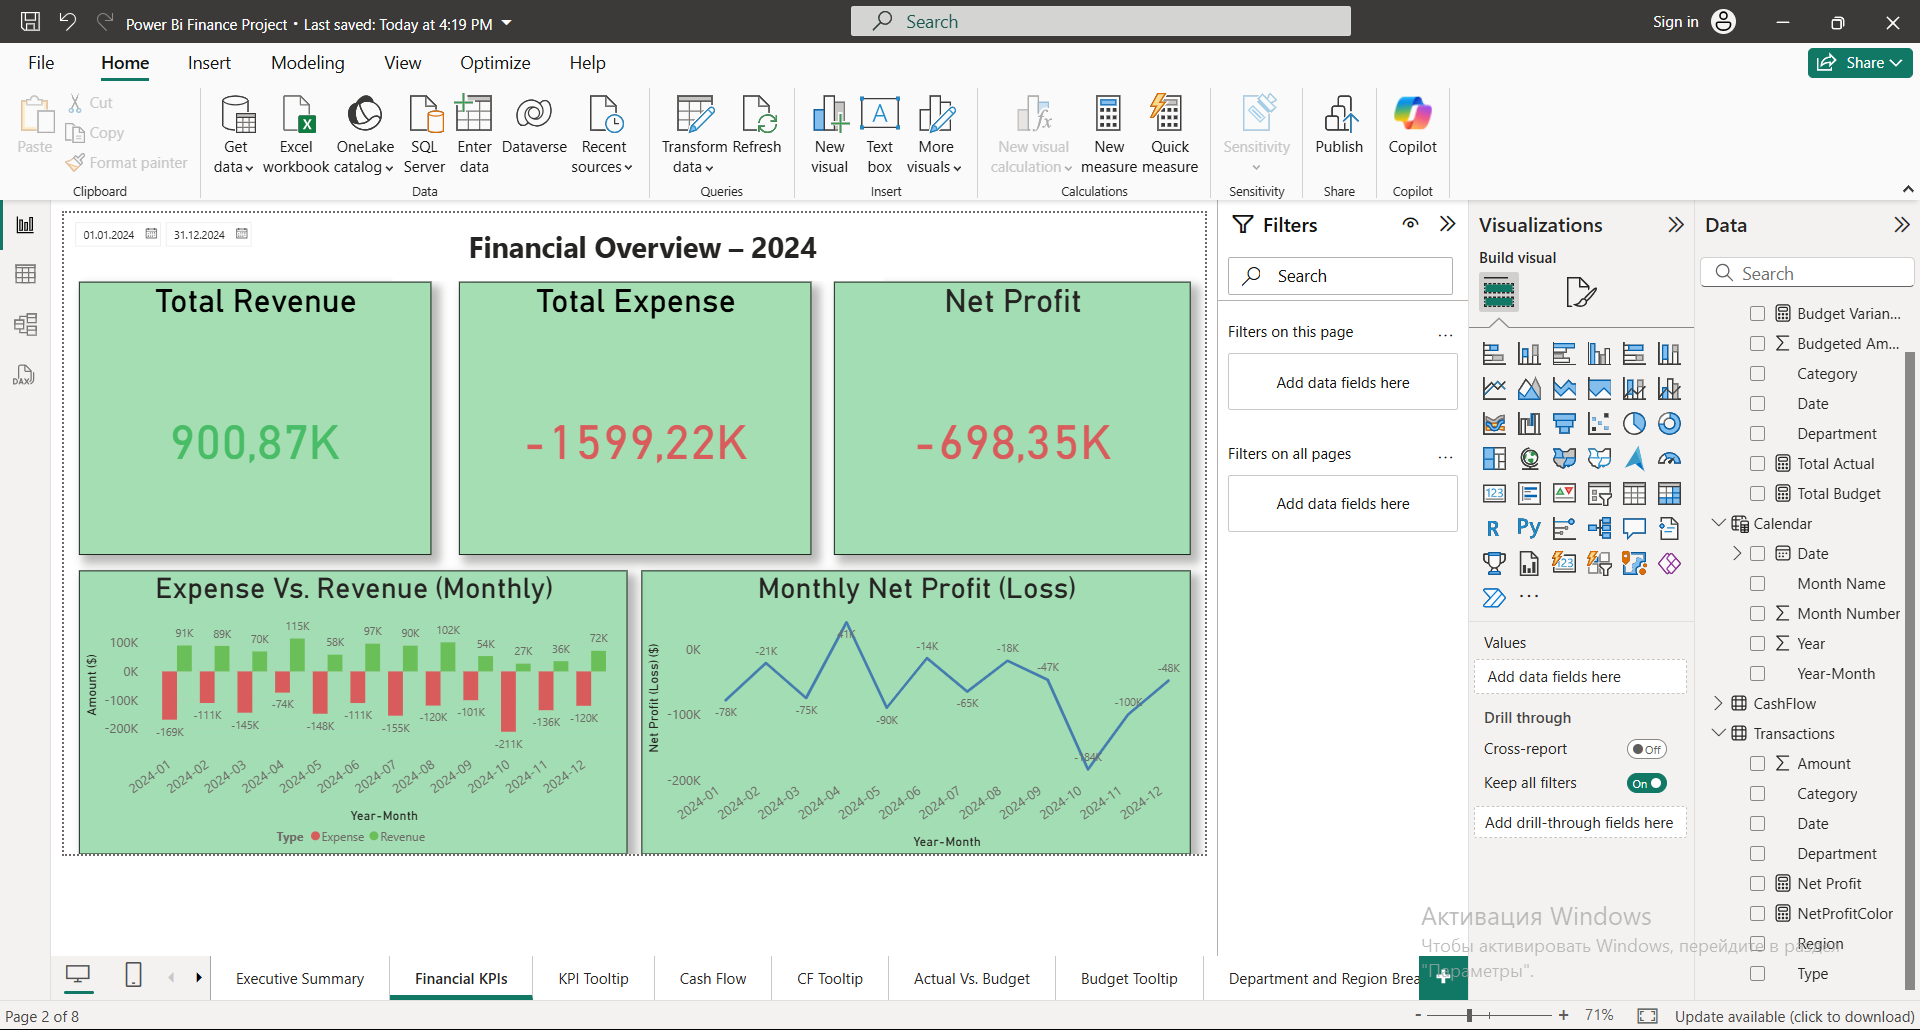

Layout of this report page (visuals, bound fields, positions):
{"tool":"powerbi","page":{"name":"Monthly Financial KPIs","canvas":[1280,720],"ordinal":1},"visuals":[{"type":"slicer","fields":{"Values":["Calendar.Date"]},"box":[0,0,235.9,79.7],"z":0},{"type":"card","title":"Total Revenue","fields":{"Values":["Sum(Transactions.Amount)"]},"box":[17.2,76.6,395.3,298.4],"z":1000},{"type":"card","title":"Total Expense","fields":{"Values":["Sum(Transactions.Amount)"]},"box":[443.8,76.6,395.3,298.4],"z":2000},{"type":"card","title":"Net Profit","fields":{"Values":["Transactions.Net Profit"]},"box":[864.1,76.6,400,298.4],"z":3000},{"type":"lineChart","title":" Revenue Trend","fields":{"Category":["Calendar.Year-Month"],"Y":["Sum(Transactions.Amount)"]},"box":[17.2,401.6,395.3,306.2],"z":4000},{"type":"lineChart","title":" Expense Trend","fields":{"Category":["Calendar.Year-Month"],"Y":["Sum(Transactions.Amount)"]},"box":[439.8,401.6,396.9,306.2],"z":5000},{"type":"lineChart","title":" Net Profit Trend","fields":{"Category":["Calendar.Year-Month"],"Y":["Transactions.Net Profit"]},"box":[864.1,401.6,400,306.2],"z":6000},{"type":"textbox","box":[368.8,4.7,551.6,71.9],"z":7000},{"type":"textbox","box":[334.4,10.9,621.9,59.4],"z":8000}]}

Visuals, with their boxes on the page's 1280x720 design canvas (x1, y1, x2, y2). These are canvas units, not pixel positions in the 1920x1030 screenshot, which may show the page scaled, cropped or inside an application window:
slicer - Calendar.Date: [x1=0, y1=0, x2=236, y2=80]
"Total Revenue" card: [x1=17, y1=77, x2=412, y2=375]
"Total Expense" card: [x1=444, y1=77, x2=839, y2=375]
"Net Profit" card: [x1=864, y1=77, x2=1264, y2=375]
" Revenue Trend" lineChart: [x1=17, y1=402, x2=412, y2=708]
" Expense Trend" lineChart: [x1=440, y1=402, x2=837, y2=708]
" Net Profit Trend" lineChart: [x1=864, y1=402, x2=1264, y2=708]
textbox: [x1=369, y1=5, x2=920, y2=77]
textbox: [x1=334, y1=11, x2=956, y2=70]
